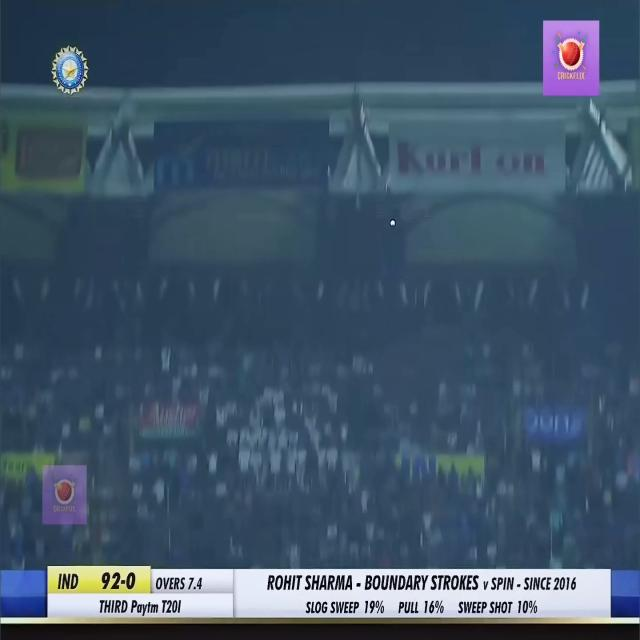fully_visible: (130, 598, 163, 620)
